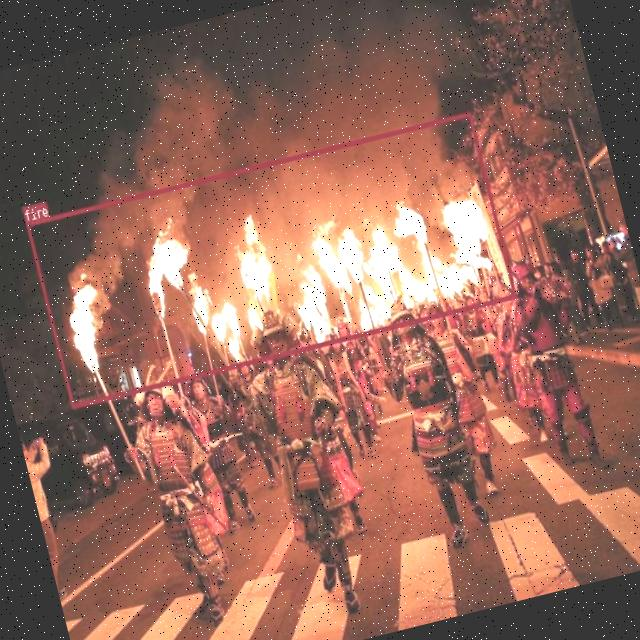fire: (25, 111, 516, 408)
